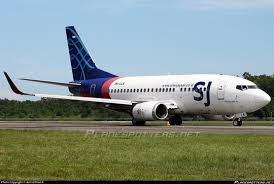maybay_dansu: (19, 27, 267, 131)
